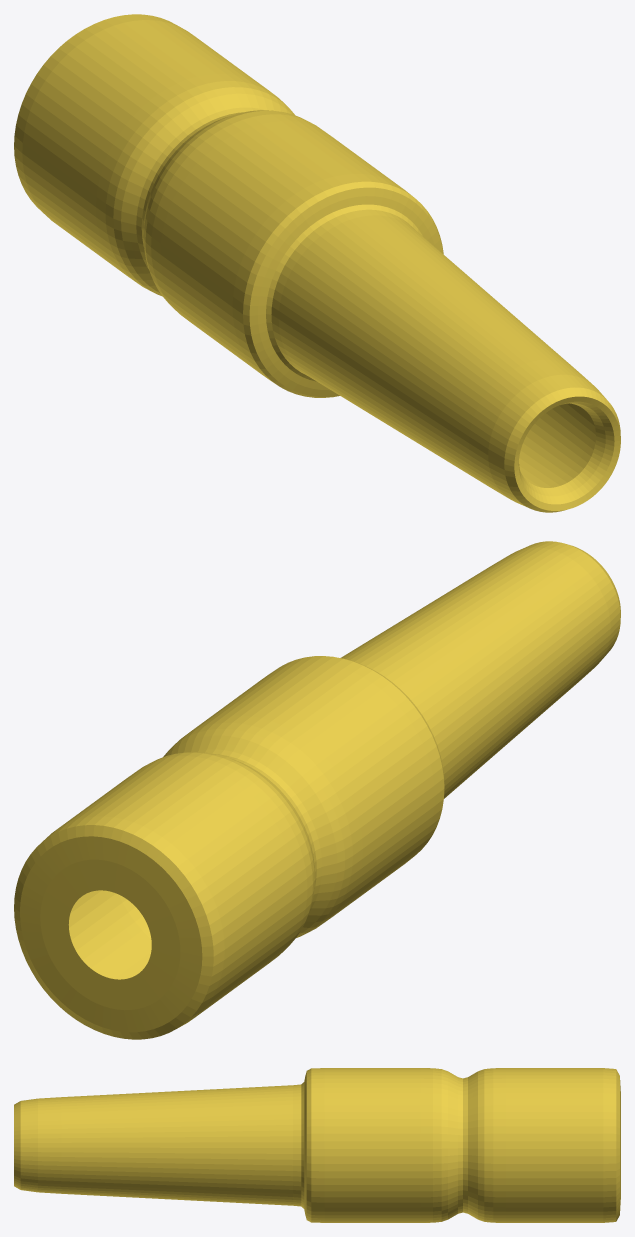
Rendered from hoseNozzle.fbx.
The picture shows the model from 3 angles, top to bottom: view 1: azimuth 30°, elevation 25°; view 2: azimuth 150°, elevation 25°; view 3: azimuth 270°, elevation 25°; orthographic projection. The views are drawn at different scales.
Parts seen in each view (by area): view 1: Circle; view 2: Circle; view 3: Circle.
Part boxes in pixels (x1=…): Circle: x1=14, y1=14, x2=620, y2=512; Circle: x1=14, y1=541, x2=620, y2=1039; Circle: x1=14, y1=1068, x2=620, y2=1222.
Bounding box in the file's own units: 30.09 × 30.09 × 118.
